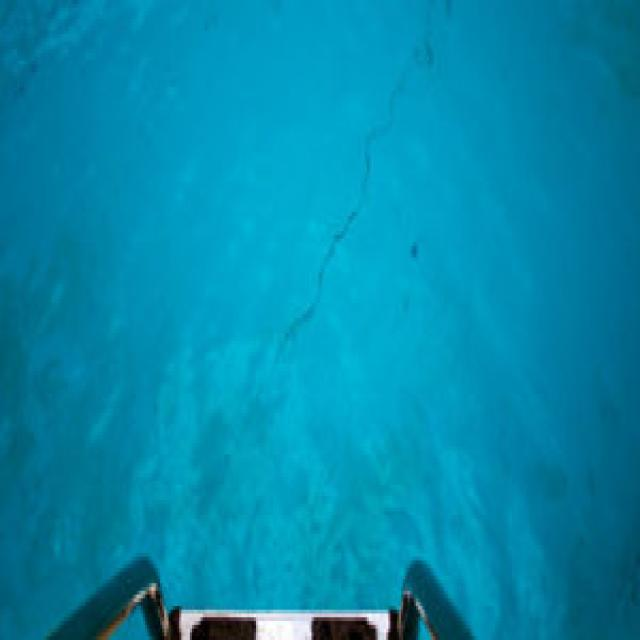crack: (270, 0, 454, 379)
